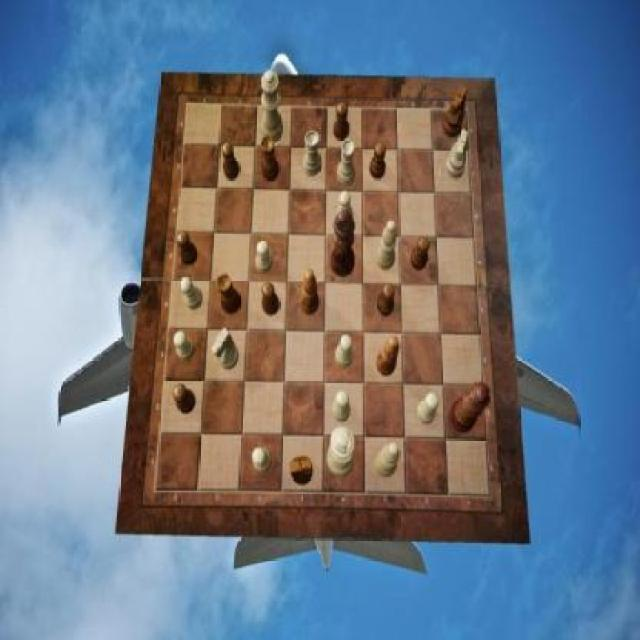bishop: (377, 337, 400, 377), (300, 270, 319, 316)
black-bishop: (332, 212, 357, 278)
black-king: (443, 86, 467, 139), (289, 457, 313, 485)
black-knight: (175, 231, 198, 265), (174, 383, 197, 414), (411, 235, 431, 270), (222, 143, 239, 182), (369, 142, 386, 179), (334, 103, 350, 142), (262, 282, 280, 316), (377, 283, 395, 317)
black-pawn: (451, 381, 492, 434)
black-queen: (217, 274, 241, 315), (262, 136, 280, 182)
black-rook: (376, 220, 396, 271), (375, 442, 400, 476)
white-bishop: (328, 426, 355, 477)
white-king: (212, 328, 240, 370), (444, 130, 468, 178)
white-knight: (180, 277, 203, 311), (417, 392, 439, 425), (174, 331, 196, 362), (335, 336, 353, 370), (255, 240, 273, 274), (332, 391, 350, 423), (337, 191, 353, 227), (252, 448, 272, 473)
white-pawn: (260, 69, 283, 143)
white-queen: (303, 131, 322, 176), (337, 139, 355, 186)
